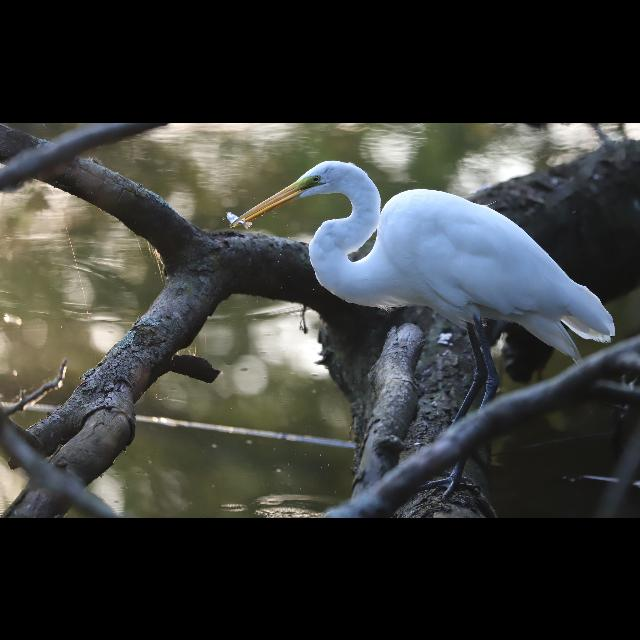egret: (238, 158, 612, 394)
